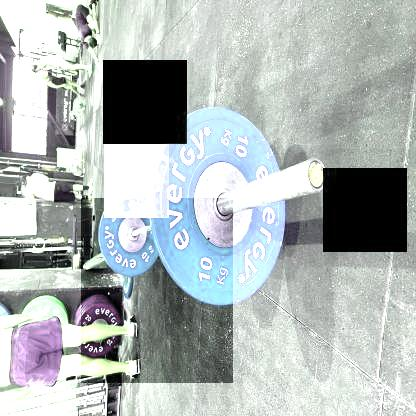barbell: (82, 199, 234, 384), (105, 131, 170, 218)
